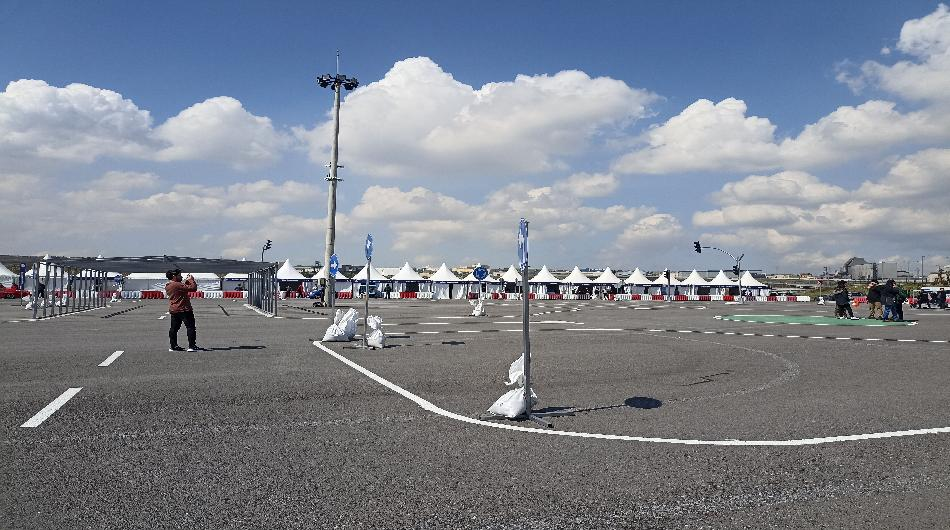saga_mecburi_1: (326, 251, 343, 276)
saga_mecburi_2: (360, 232, 378, 265)
sola_mecburi_2: (510, 217, 535, 274)
